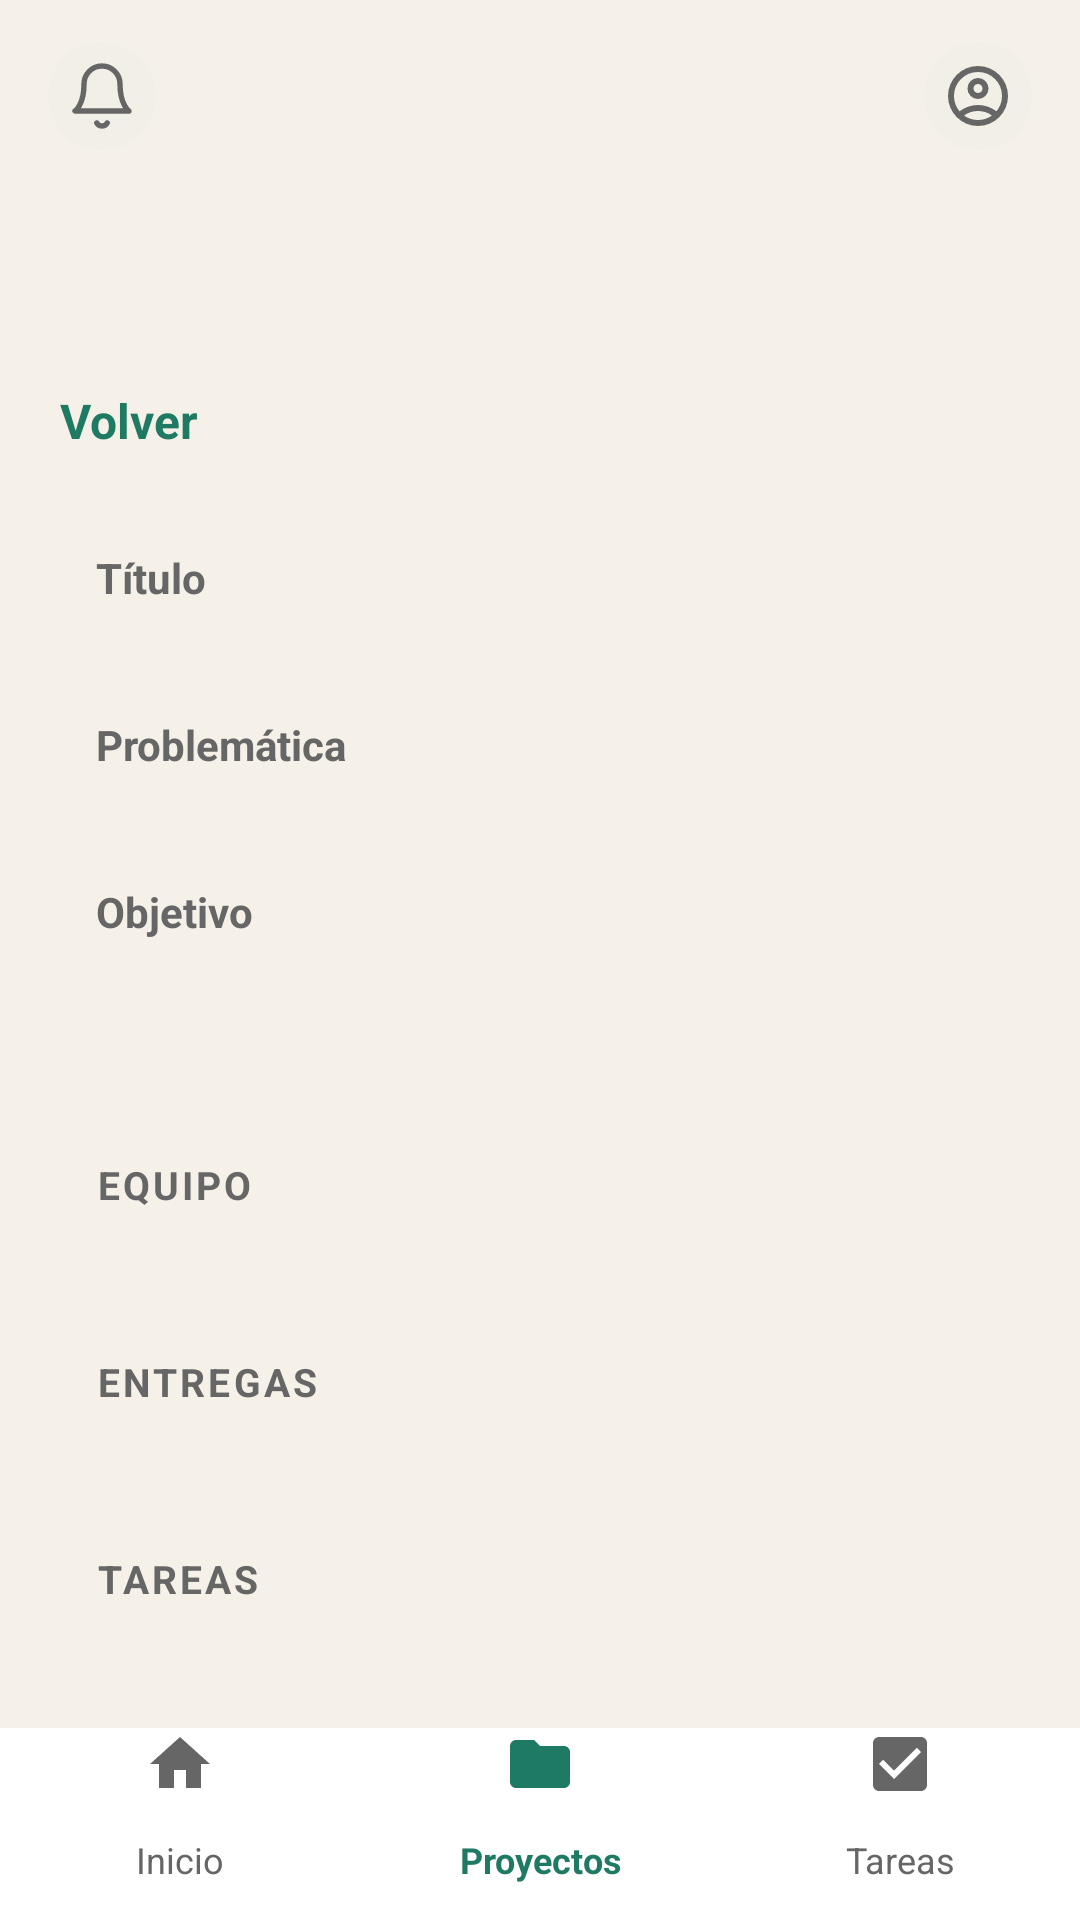

Icons on this 1080 × 1920 Android screen, each with its box as (x1, y1, x2, y2):
Notificaciones: (72, 63, 132, 129)
Perfil: (948, 66, 1008, 126)
